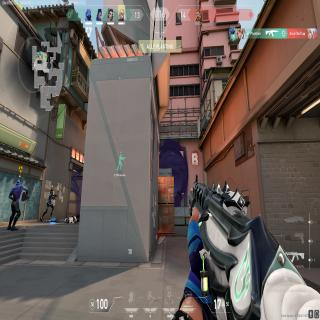ENEMY-HEAD: (182, 192, 185, 196)
